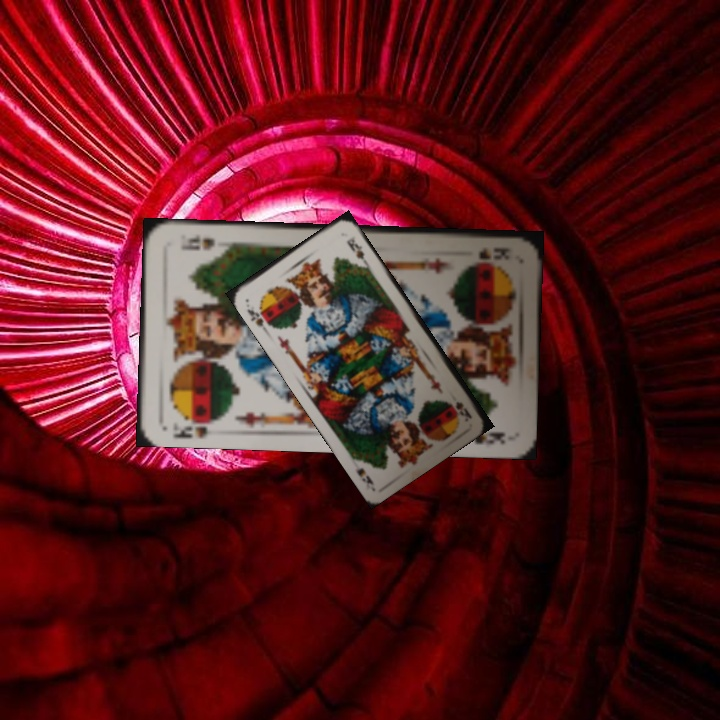SK: (243, 303, 274, 332), (474, 243, 513, 263), (169, 422, 210, 440), (452, 397, 475, 424)
